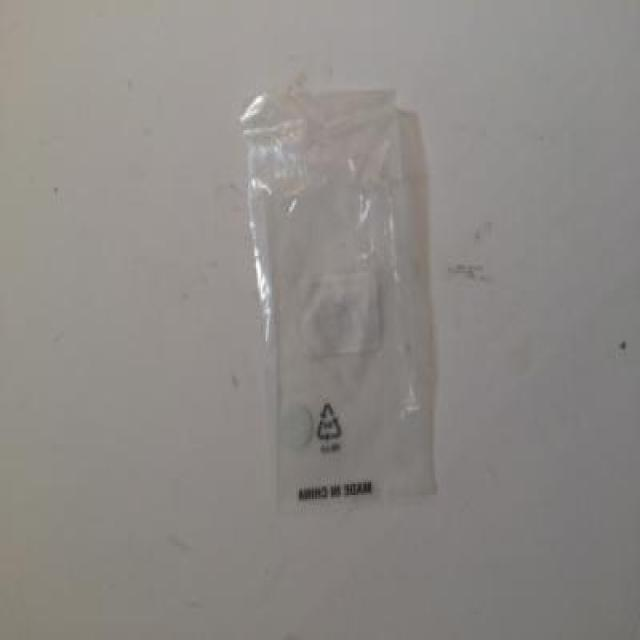plastic: (233, 81, 453, 512)
